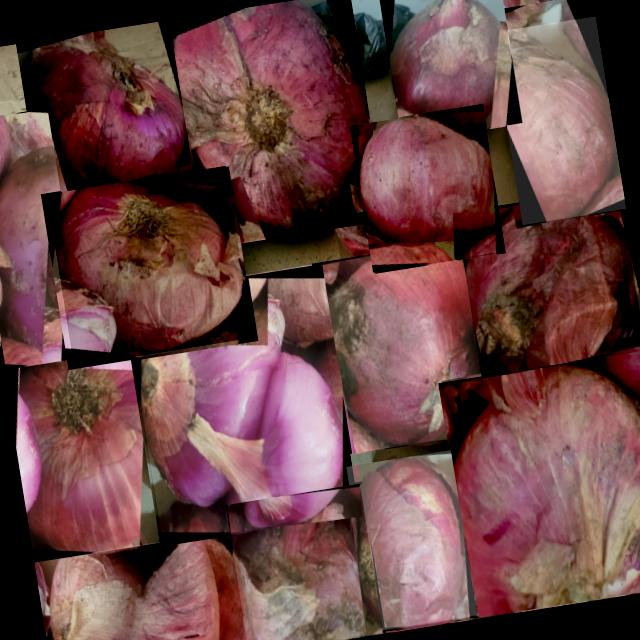healthy: (18, 334, 168, 552)
rotten: (140, 279, 342, 532), (452, 365, 640, 619), (174, 0, 369, 233), (465, 197, 640, 399), (56, 181, 243, 356), (326, 244, 478, 446), (26, 30, 189, 197), (492, 33, 618, 221), (232, 492, 382, 640), (360, 116, 494, 261), (356, 459, 464, 629), (0, 113, 67, 362), (390, 0, 511, 135)
